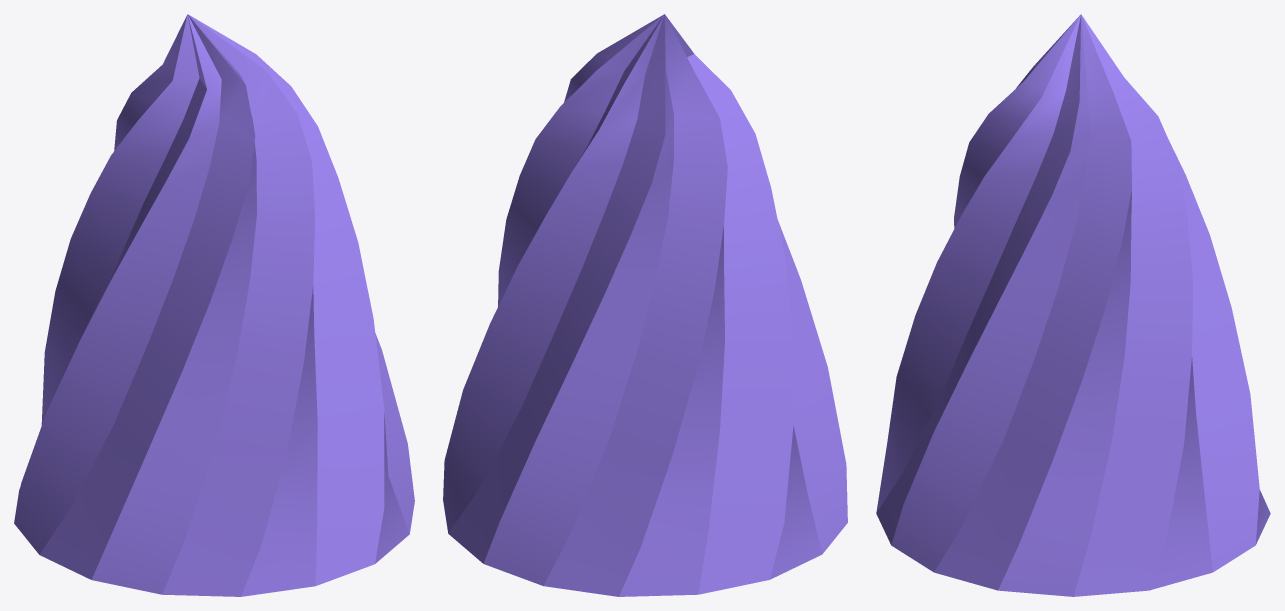
The model's file is Ice Cream Hat A.fbx.
The picture shows the model from 3 angles, left to right: view 1: azimuth 30°, elevation 25°; view 2: azimuth 150°, elevation 25°; view 3: azimuth 270°, elevation 25°; orthographic projection. The views are drawn at different scales.
Visible parts, largest first — view 1: Ice Cream Hat A; view 2: Ice Cream Hat A; view 3: Ice Cream Hat A.
Part boxes in pixels (x1=…): Ice Cream Hat A: x1=14, y1=14, x2=414, y2=596; Ice Cream Hat A: x1=443, y1=14, x2=847, y2=596; Ice Cream Hat A: x1=876, y1=14, x2=1270, y2=596.
Bounding box in the file's own units: 0.4333 × 0.5923 × 0.4333.
